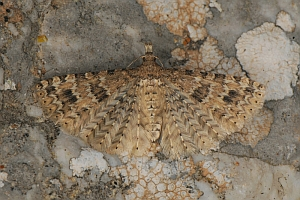Alucitidae: (36, 42, 274, 161)
moth: (34, 40, 272, 159)
